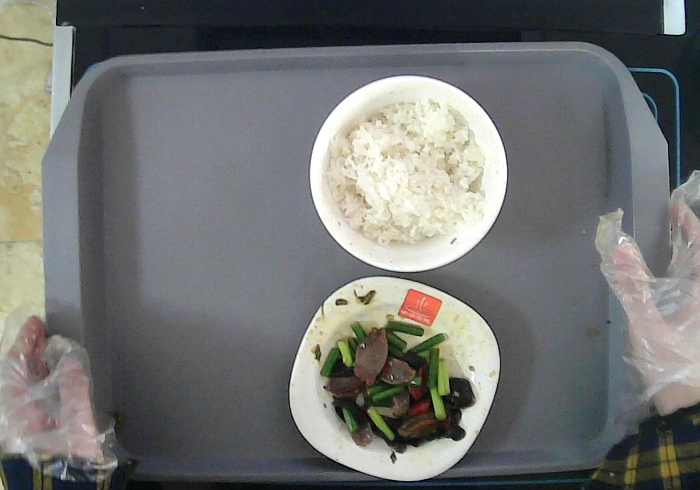SHKJ-Bai_Se_Si_Fang_Cai_Die: (283, 271, 503, 489)
SHKJ-Fan_Wan: (304, 70, 511, 275)
